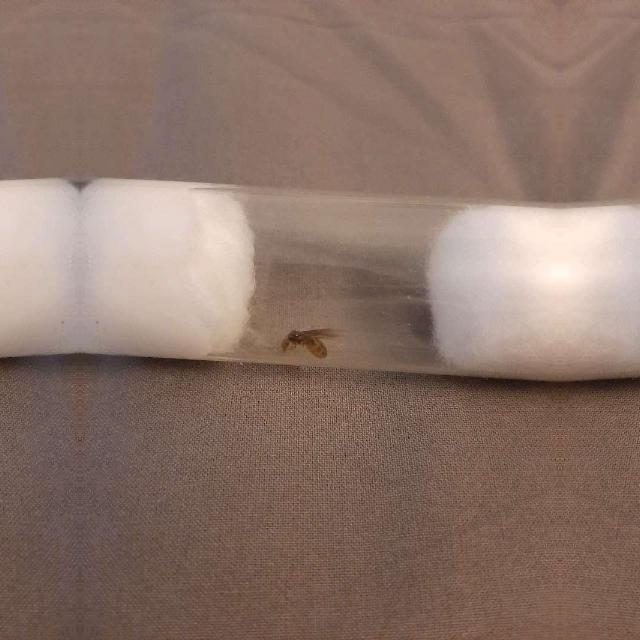Lasius: (262, 313, 342, 365)
